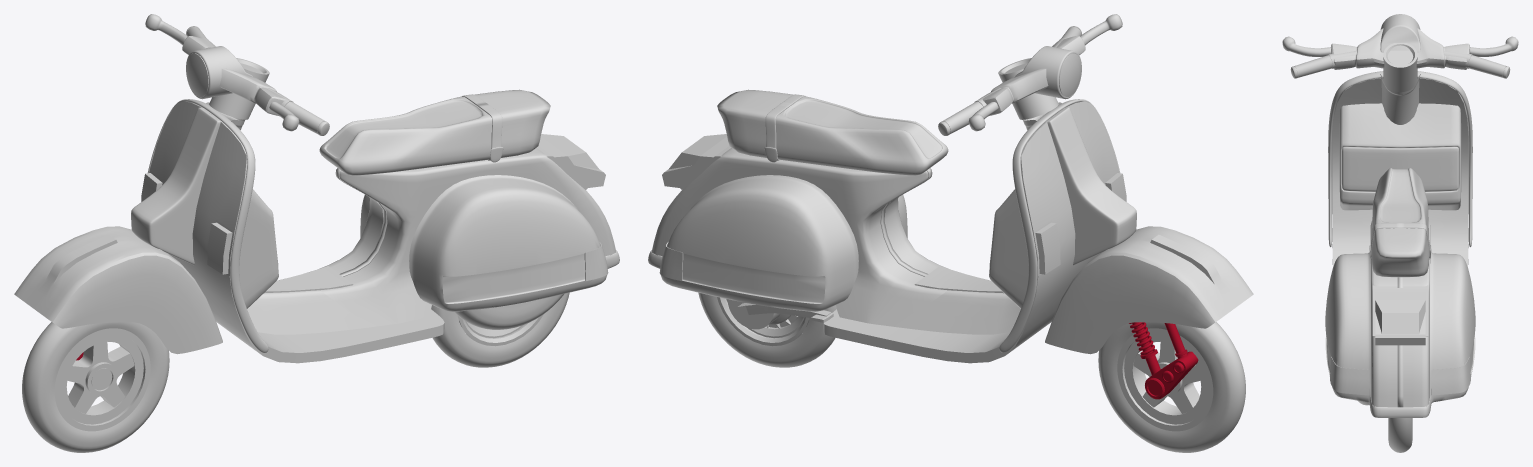
Rendered from vespaTar.fbx.
3 views of the same model, side by side, from view 1: azimuth 30°, elevation 25°; view 2: azimuth 150°, elevation 25°; view 3: azimuth 270°, elevation 25° (orthographic). The views are drawn at different scales.
Parts seen in each view (by area): view 1: Cube.004, Cube.019, Cube.005, Plane, Cube.018, Circle.002, Cube.022, Circle, Cube.011, Circle.003, Cube.021, Plane.001 (+13 smaller); view 2: Cube.004, Cube.019, Cube.005, Plane, Cube.018, Circle.002, Cube.022, Cube.011, Circle, Circle.003, Cube.021, Plane.001 (+14 smaller); view 3: Cube.021, Cube.004, Plane, Cube.018, Cube.005, Cube, Cube.023, Cube.002, Plane.001, Cylinder, Cylinder.002, Cylinder.001 (+7 smaller).
Part boxes in pixels (bbox=[...]): Cube.004: bbox=[360, 175, 606, 311]; Cube.019: bbox=[14, 226, 222, 354]; Cube.005: bbox=[307, 148, 616, 327]; Plane: bbox=[141, 101, 444, 363]; Cube.018: bbox=[319, 89, 550, 175]; Circle.002: bbox=[22, 322, 169, 452]; Cube.022: bbox=[131, 107, 221, 265]; Circle: bbox=[54, 328, 150, 431]; Cube.011: bbox=[206, 102, 370, 334]; Circle.003: bbox=[431, 292, 569, 367]; Cube.021: bbox=[239, 189, 278, 308]; Plane.001: bbox=[147, 99, 268, 352]; Cube.004: bbox=[661, 175, 907, 311]; Cube.019: bbox=[1045, 226, 1253, 354]; Cube.005: bbox=[651, 148, 960, 327]; Plane: bbox=[823, 101, 1126, 363]; Cube.018: bbox=[717, 89, 948, 175]; Circle.002: bbox=[1098, 322, 1245, 452]; Cube.022: bbox=[1046, 107, 1136, 265]; Cube.011: bbox=[897, 102, 1061, 334]; Circle: bbox=[1117, 328, 1213, 431]; Circle.003: bbox=[698, 292, 836, 367]; Cube.021: bbox=[989, 189, 1028, 308]; Plane.001: bbox=[999, 99, 1120, 352]; Cube.021: bbox=[1339, 103, 1461, 210]; Cube.004: bbox=[1325, 252, 1475, 403]; Plane: bbox=[1331, 78, 1469, 266]; Cube.018: bbox=[1371, 168, 1429, 277]; Cube.005: bbox=[1370, 221, 1430, 407]; Cube: bbox=[1375, 292, 1425, 345]; Cube.023: bbox=[1331, 28, 1469, 69]; Cube.002: bbox=[1330, 357, 1470, 395]; Plane.001: bbox=[1328, 71, 1472, 247]; Cylinder: bbox=[1383, 43, 1417, 92]; Cylinder.002: bbox=[1290, 50, 1510, 78]; Cylinder.001: bbox=[1380, 14, 1420, 52].
Bounding box in the file's own units: 196 × 124 × 84.45.
